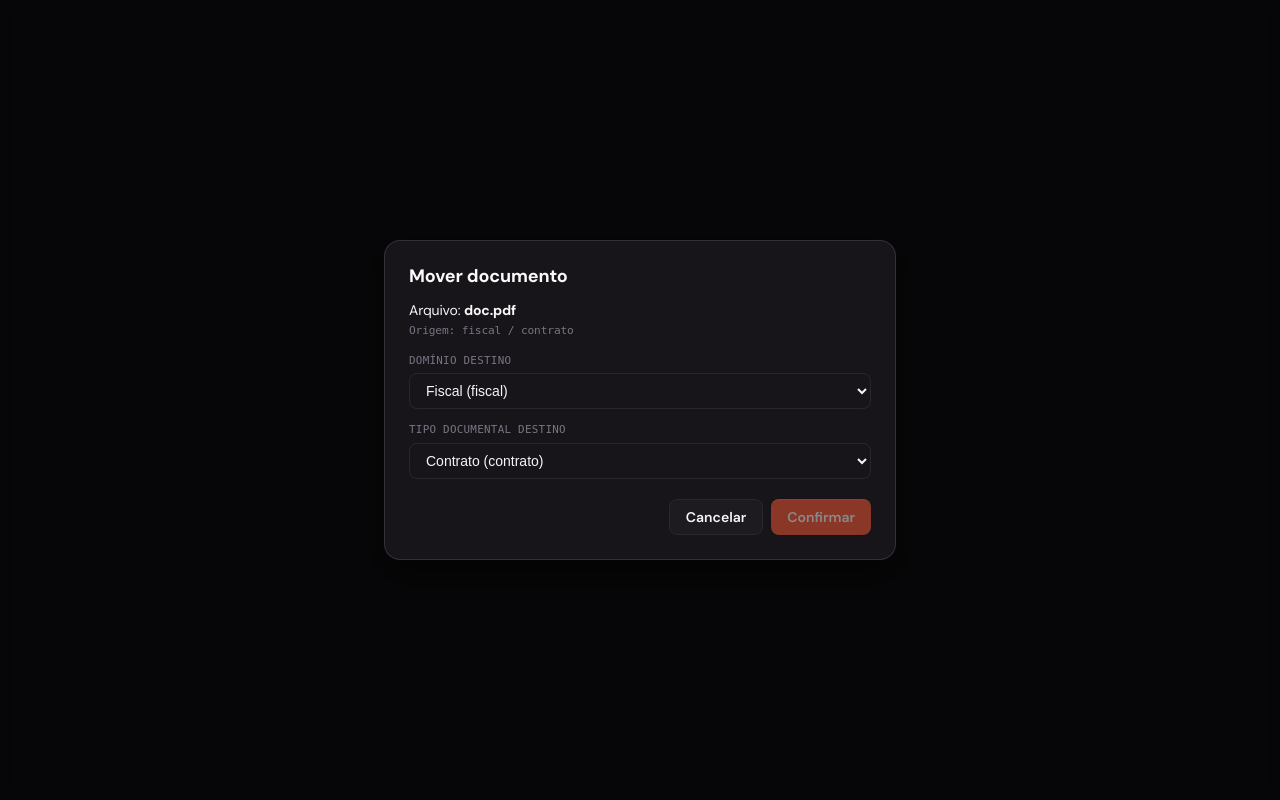
Scenario: MoveDocumentModal › shows move summary when destination differs from origin
Select "Jurídico (juridico)" in the dropdown labelled "Domínio destino". click: (640, 391)
box: left=409, top=373, right=871, bottom=409
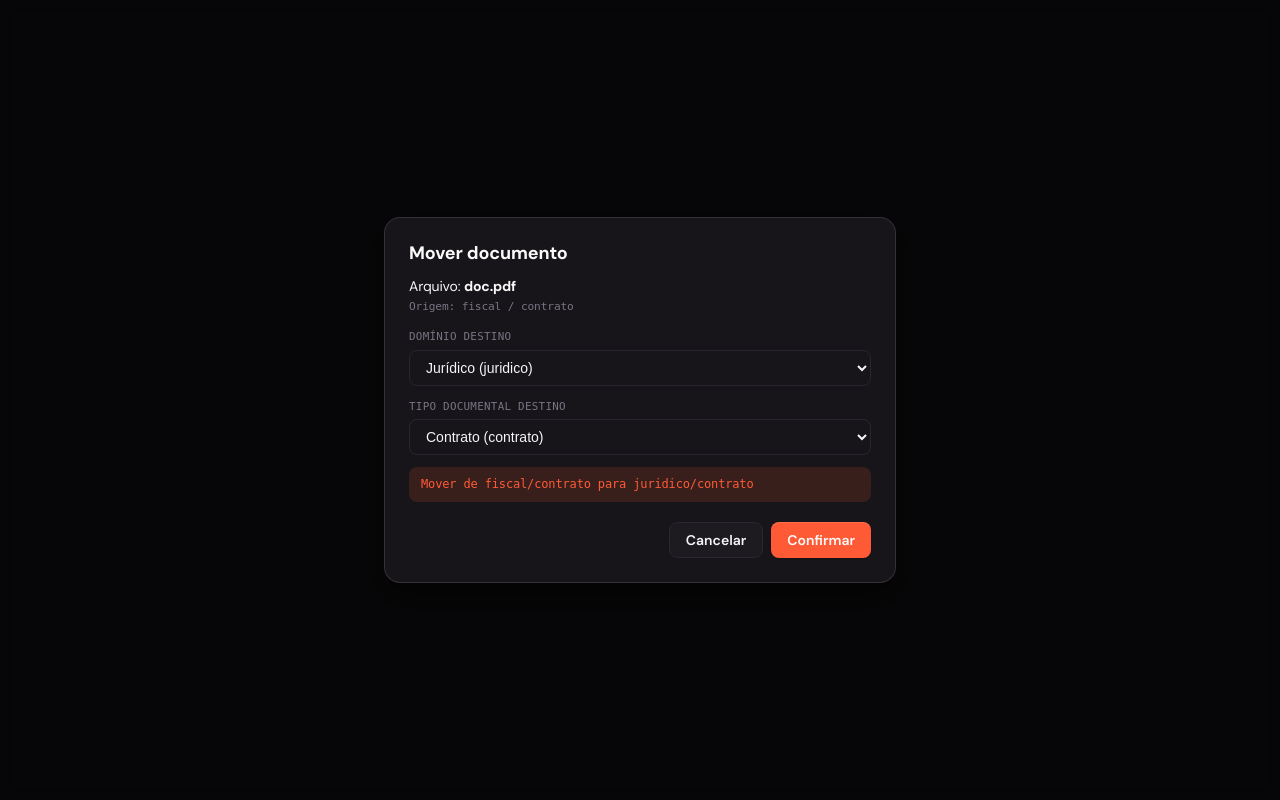
Expected: the text "Mover de fiscal/contrato para juridico/contrato" is shown, left=409, top=467, right=871, bottom=502
